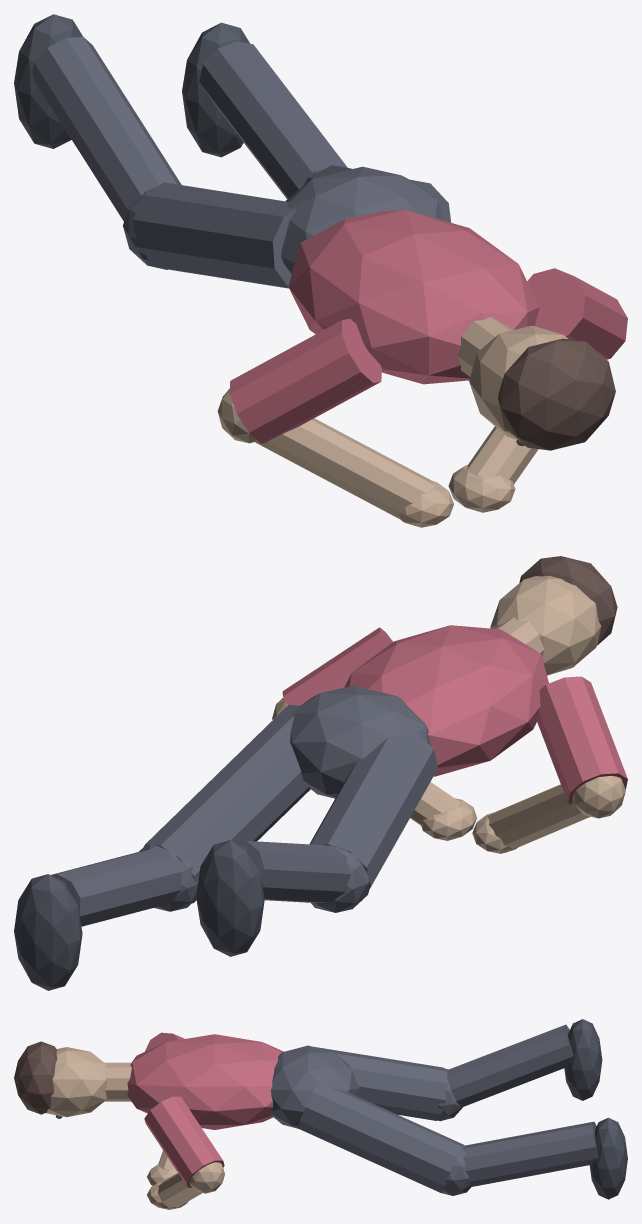
The picture shows the model from 3 angles, top to bottom: view 1: azimuth 30°, elevation 25°; view 2: azimuth 150°, elevation 25°; view 3: azimuth 270°, elevation 25°; orthographic projection. The views are drawn at different scales.
Parts seen in each view (by area): view 1: world; view 2: world; view 3: world.
Part boxes in pixels (x1,y1,x2,y2): world: (14,14,627,527); world: (14,556,627,990); world: (14,1019,627,1209).
Size of the model in its own units: 0.93 by 0.5928 by 2.04.
